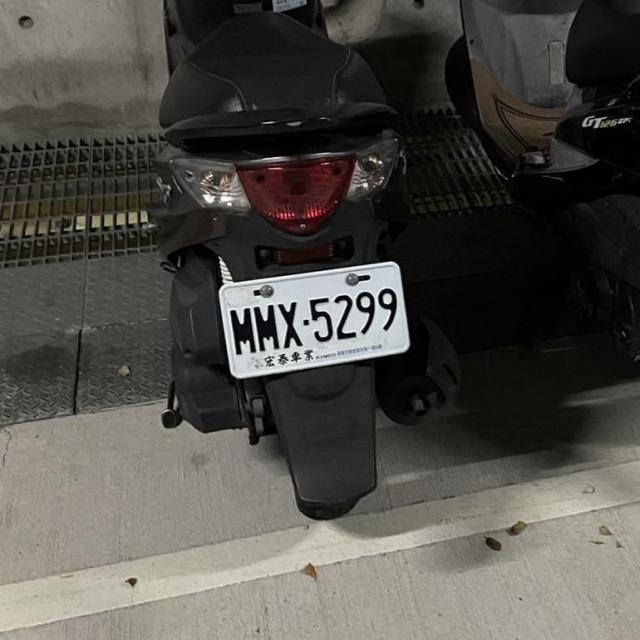W: (214, 258, 414, 380)
